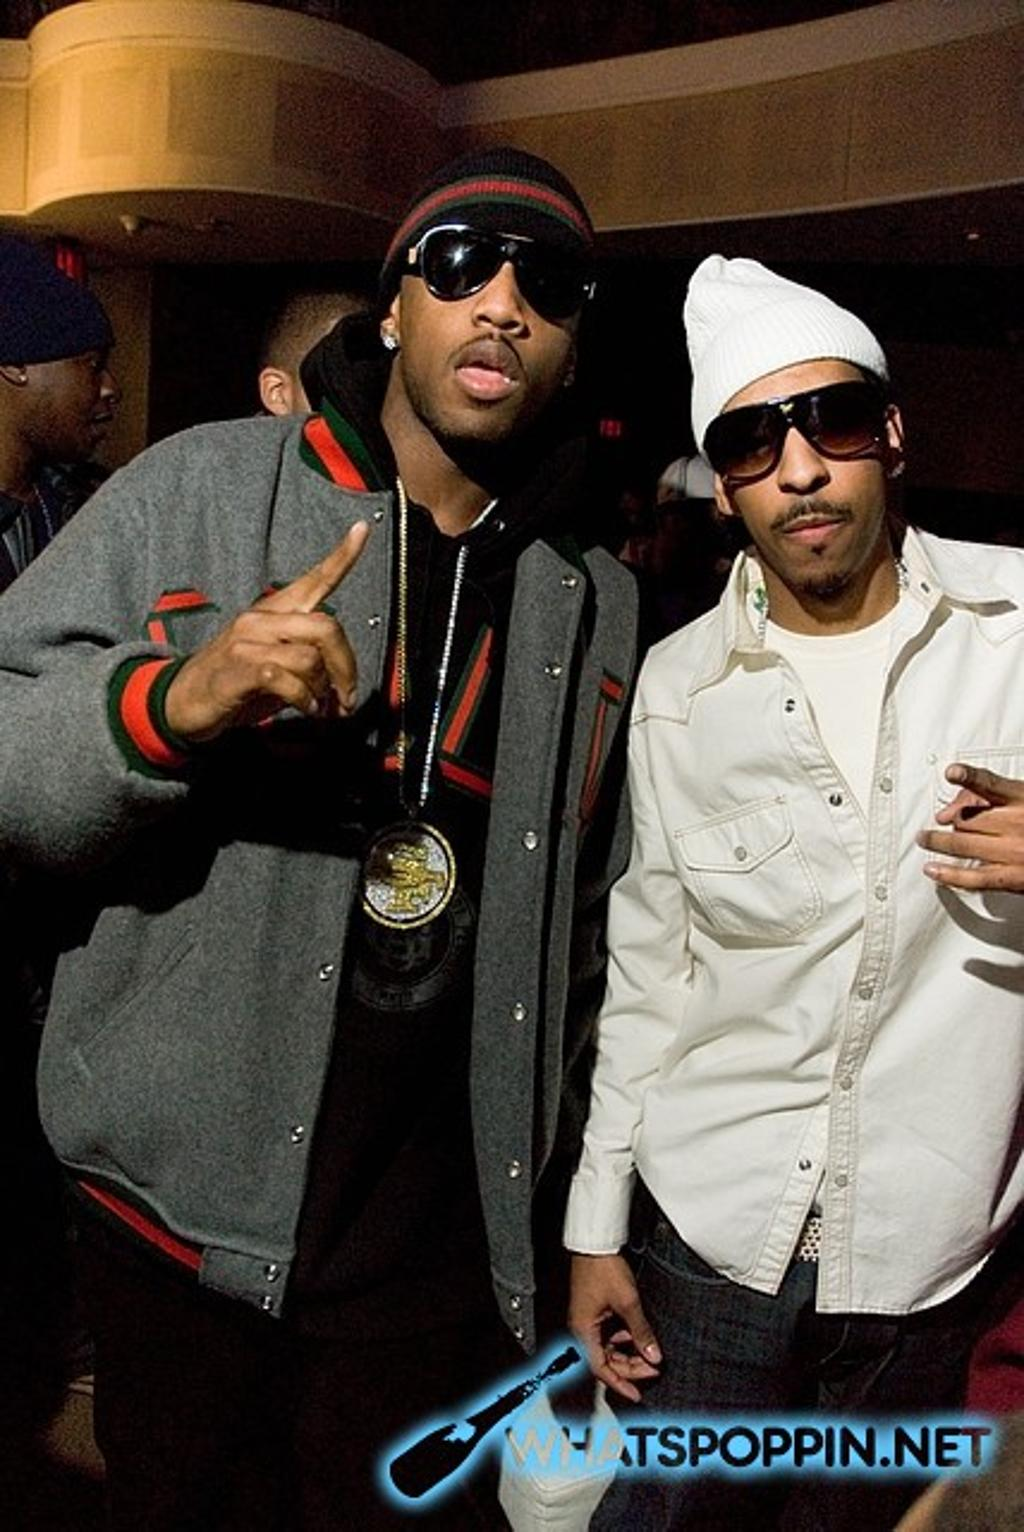face: (713, 362, 893, 590), (410, 219, 575, 447), (26, 291, 116, 462)
